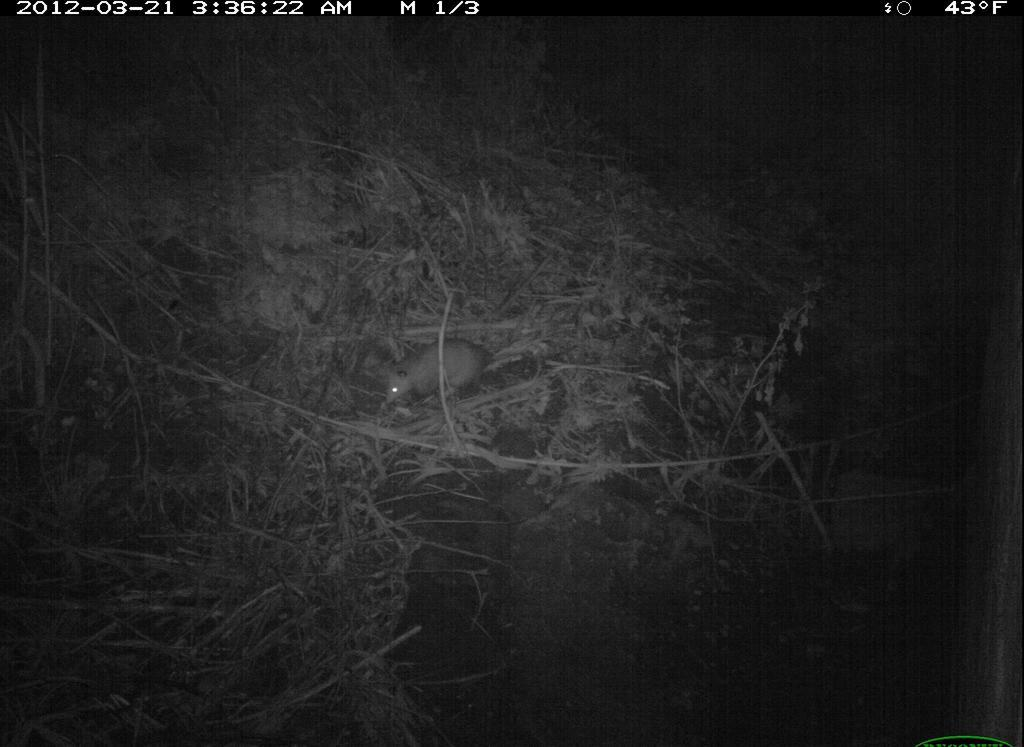opossum: (377, 337, 534, 410)
